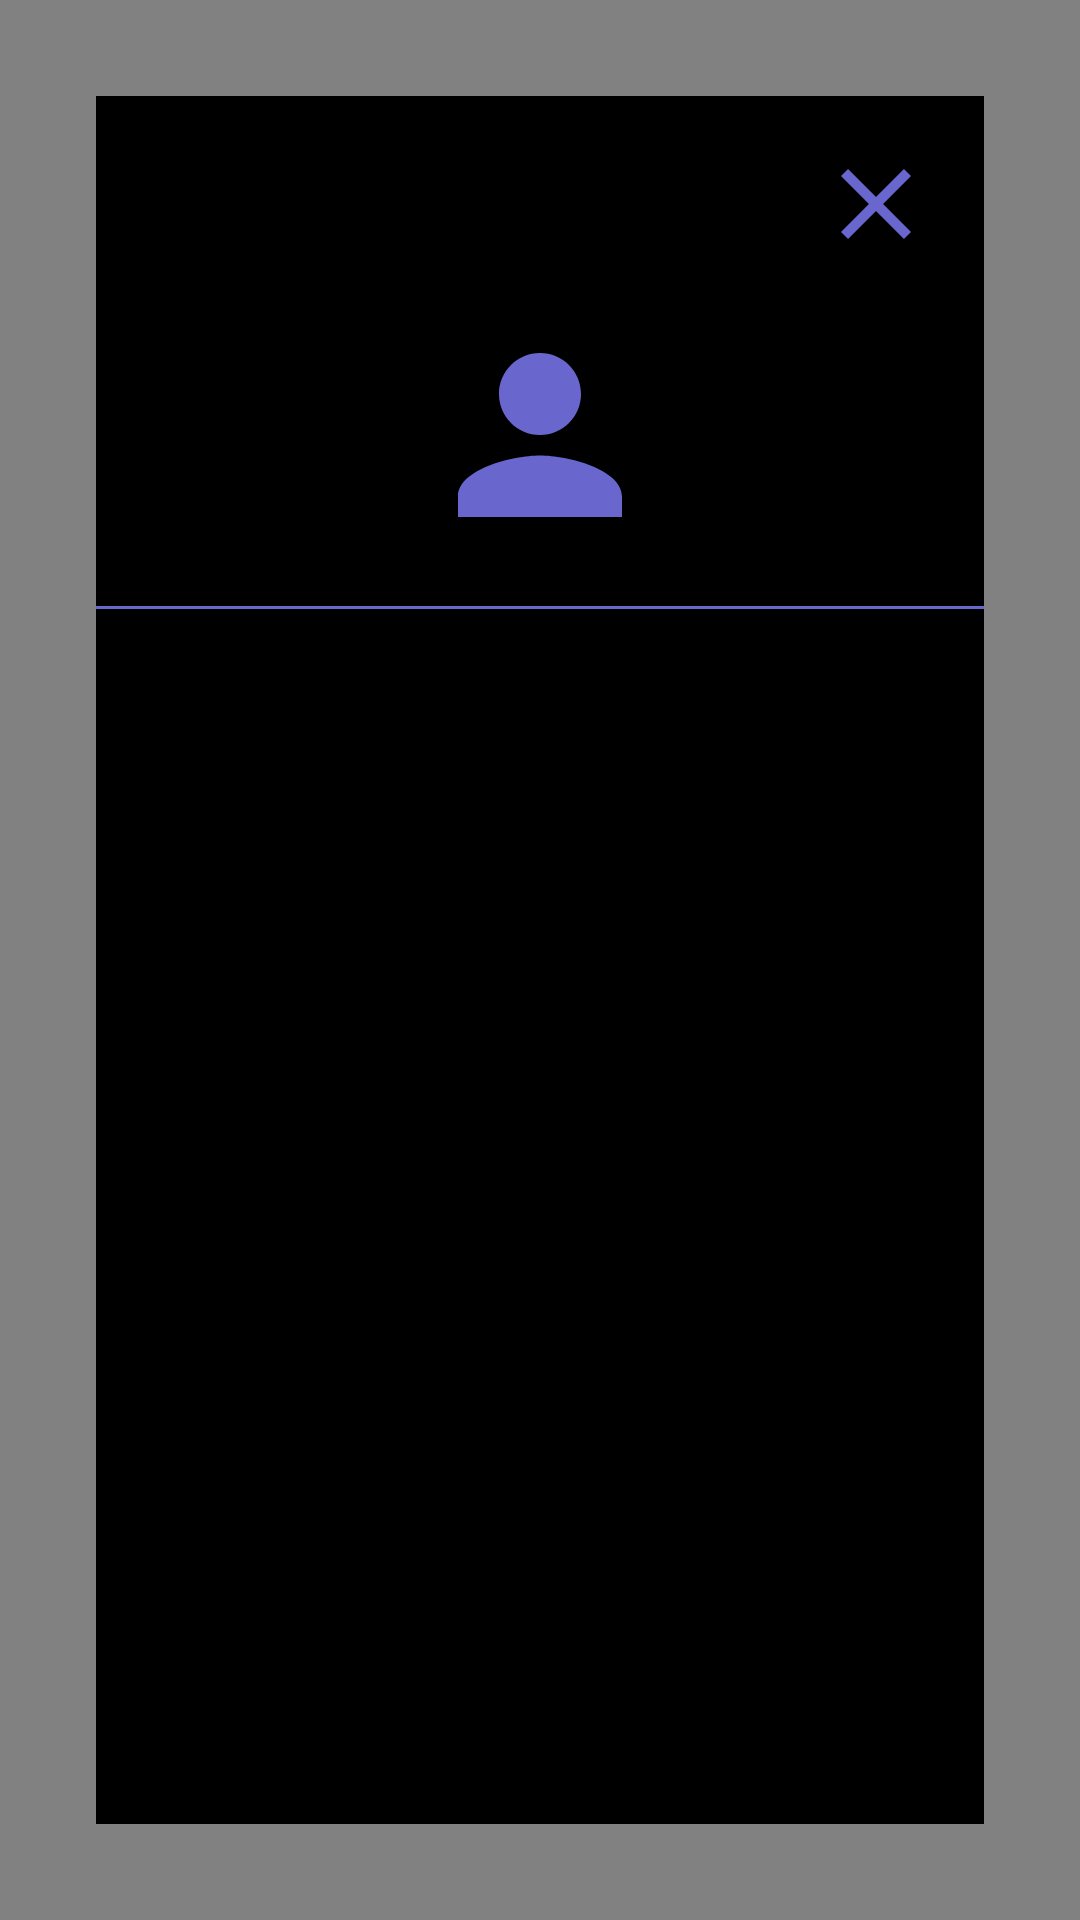

Icons on this 1080w x 1920h Android screen, each with its box as (x1, y1, x2, y2):
artist: (458, 353, 622, 517)
cancel: (841, 169, 911, 239)
